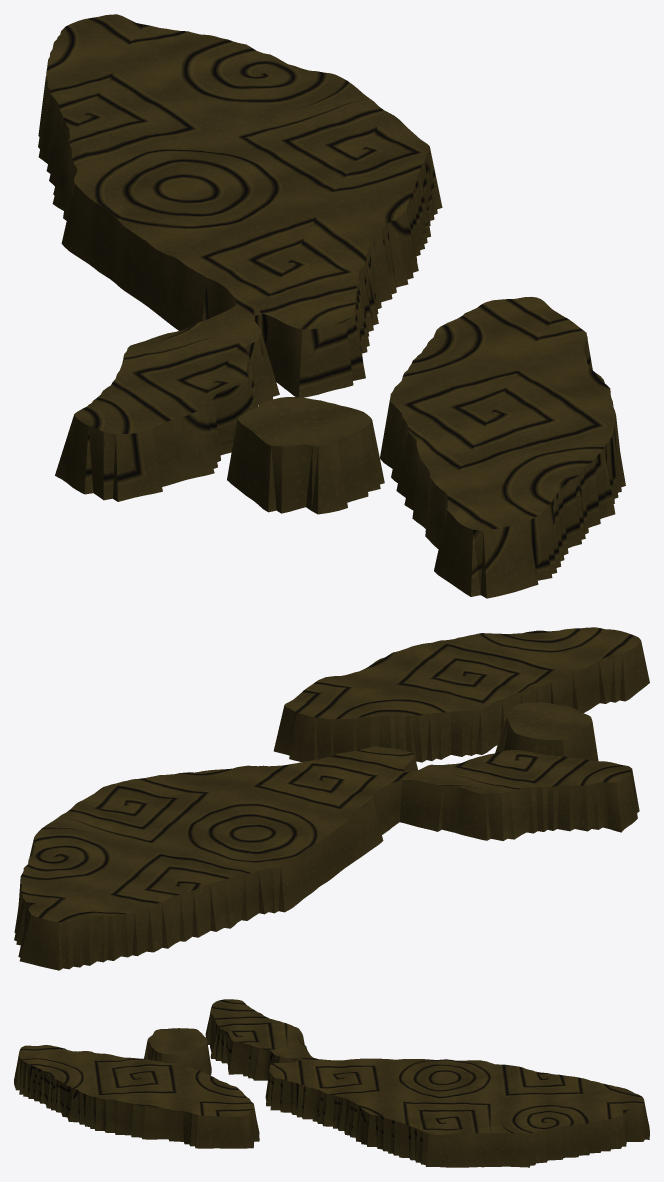
File: CREHenge21.glb
The picture shows the model from 3 angles, top to bottom: view 1: azimuth 30°, elevation 25°; view 2: azimuth 150°, elevation 25°; view 3: azimuth 270°, elevation 25°; orthographic projection. The views are drawn at different scales.
Visible parts, largest first — view 1: CREHenge21_tops; view 2: CREHenge21_tops; view 3: CREHenge21_tops.
Boxes of the visible parts, x1,y1,x2,y2 form: CREHenge21_tops: [38, 14, 625, 598]; CREHenge21_tops: [14, 627, 649, 970]; CREHenge21_tops: [14, 999, 649, 1167].
Bounding box in the file's own units: 3.84 × 0.4293 × 7.44.
2 materials, 2 textured.
